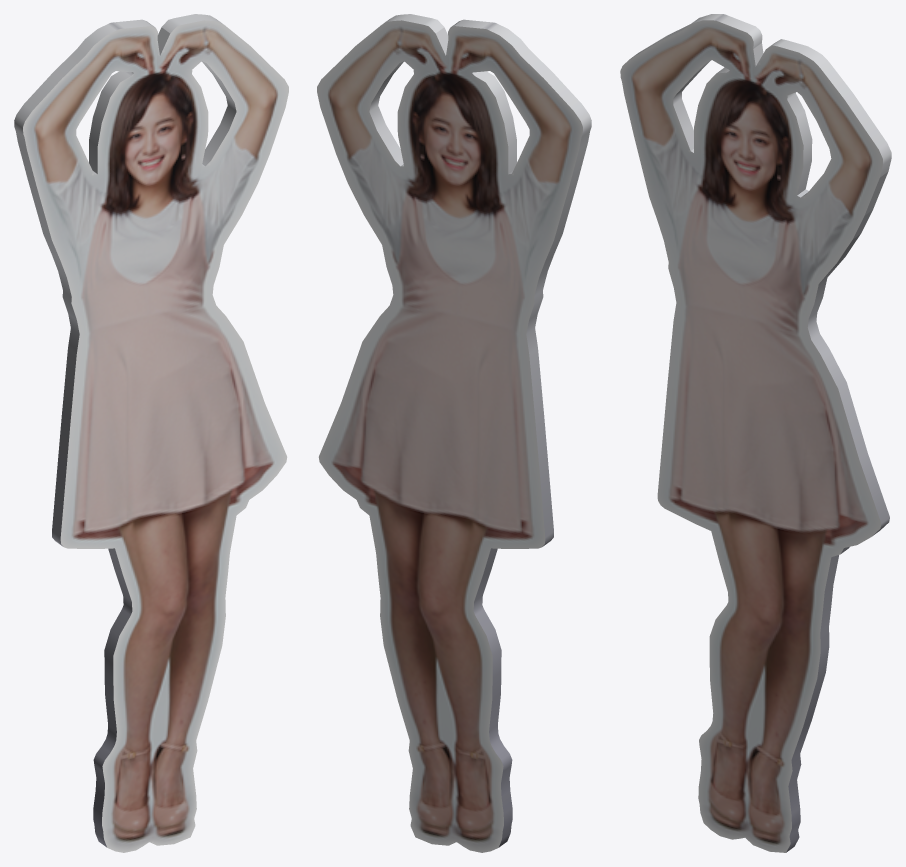
File: panel_sejeong_1.FBX
3 renders of one model, left to right at view 1: azimuth 30°, elevation 25°; view 2: azimuth 150°, elevation 25°; view 3: azimuth 330°, elevation 25°, orthographic.
Visible parts, largest first — view 1: panel_sejeong_1; view 2: panel_sejeong_1; view 3: panel_sejeong_1.
Boxes of the visible parts, x1=… form: panel_sejeong_1: x1=14, y1=14, x2=288, y2=852; panel_sejeong_1: x1=317, y1=14, x2=591, y2=852; panel_sejeong_1: x1=620, y1=14, x2=891, y2=852.
Size of the model in its own units: 69.44 by 207 by 3.97.
Materials: 1 (1 with a texture image).
